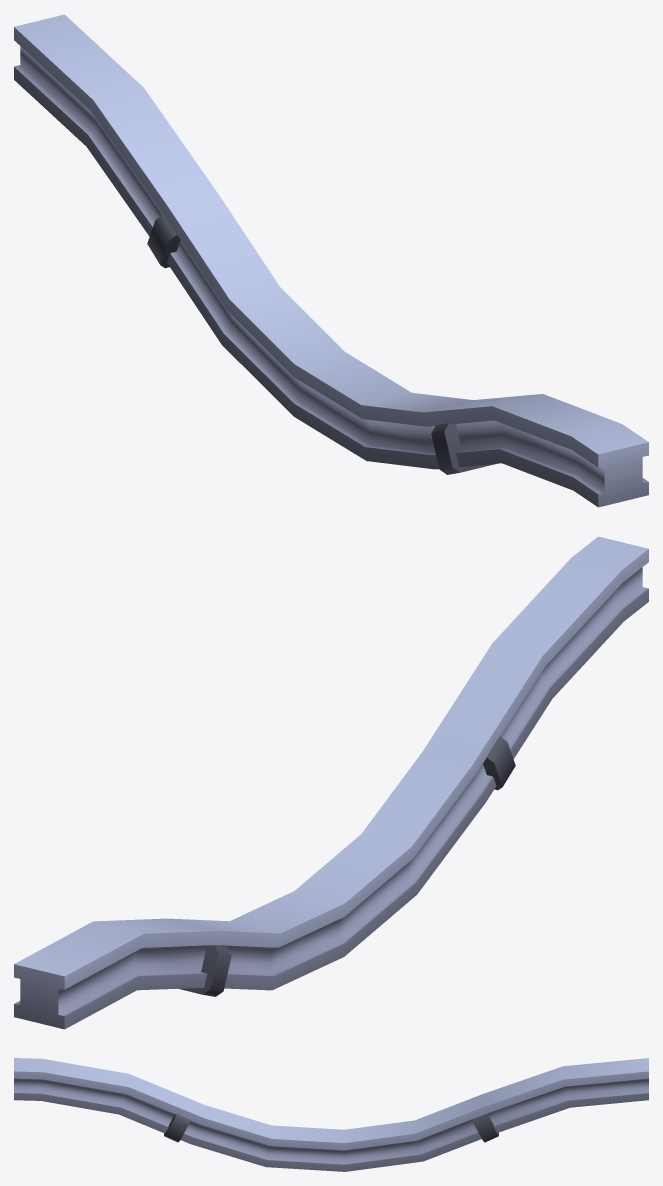
The model's file is coaster-monorail-straight-bump-down.glb.
3 renders of one model, top to bottom at view 1: azimuth 30°, elevation 25°; view 2: azimuth 150°, elevation 25°; view 3: azimuth 270°, elevation 25°, orthographic. The views are drawn at different scales.
Parts seen in each view (by area): view 1: coaster-monorail-straight-bump-down; view 2: coaster-monorail-straight-bump-down; view 3: coaster-monorail-straight-bump-down.
Boxes of the visible parts, bbox=[...] form: coaster-monorail-straight-bump-down: bbox=[14, 14, 648, 507]; coaster-monorail-straight-bump-down: bbox=[14, 536, 648, 1029]; coaster-monorail-straight-bump-down: bbox=[14, 1058, 648, 1171].
Bounding box in the file's own units: 0.25 × 0.6988 × 4.
1 material, 1 textured.
